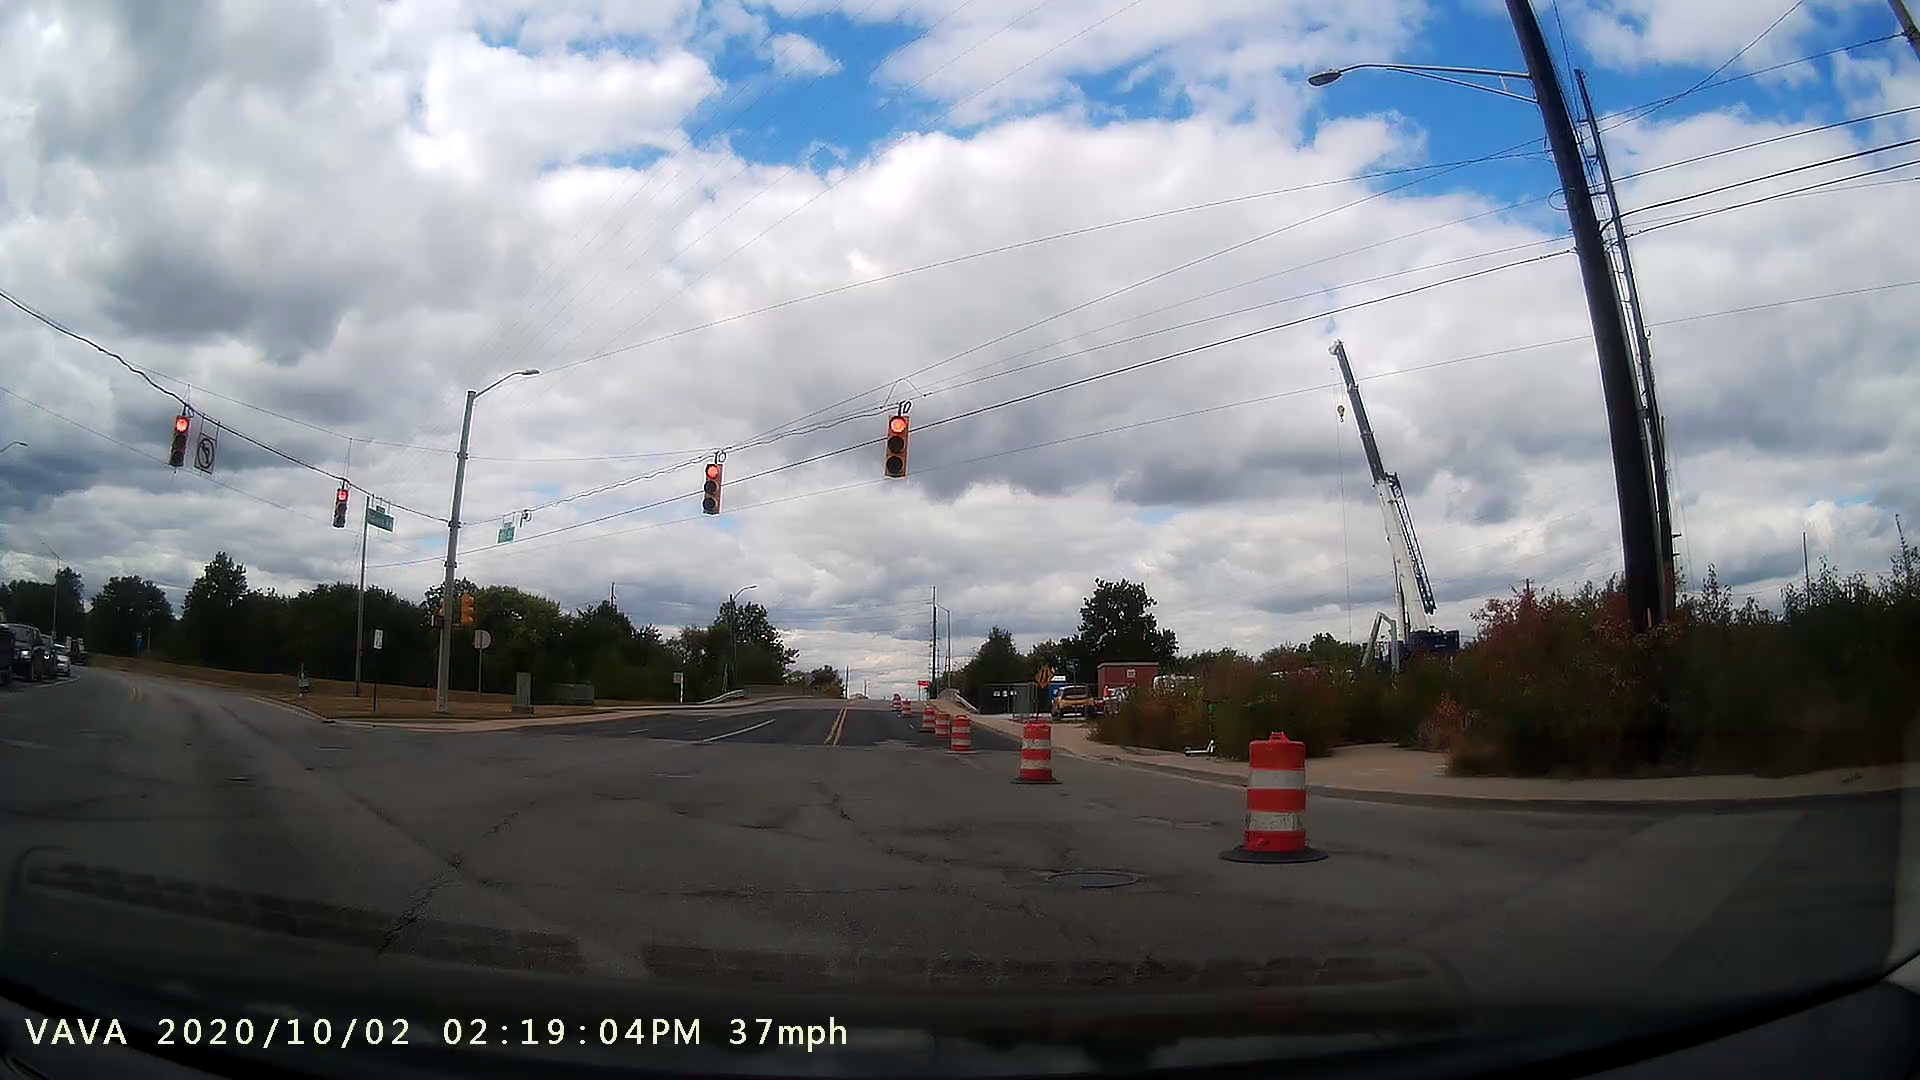const_barrel: (1197, 709, 1350, 887), (1000, 702, 1081, 800), (943, 708, 992, 762)
